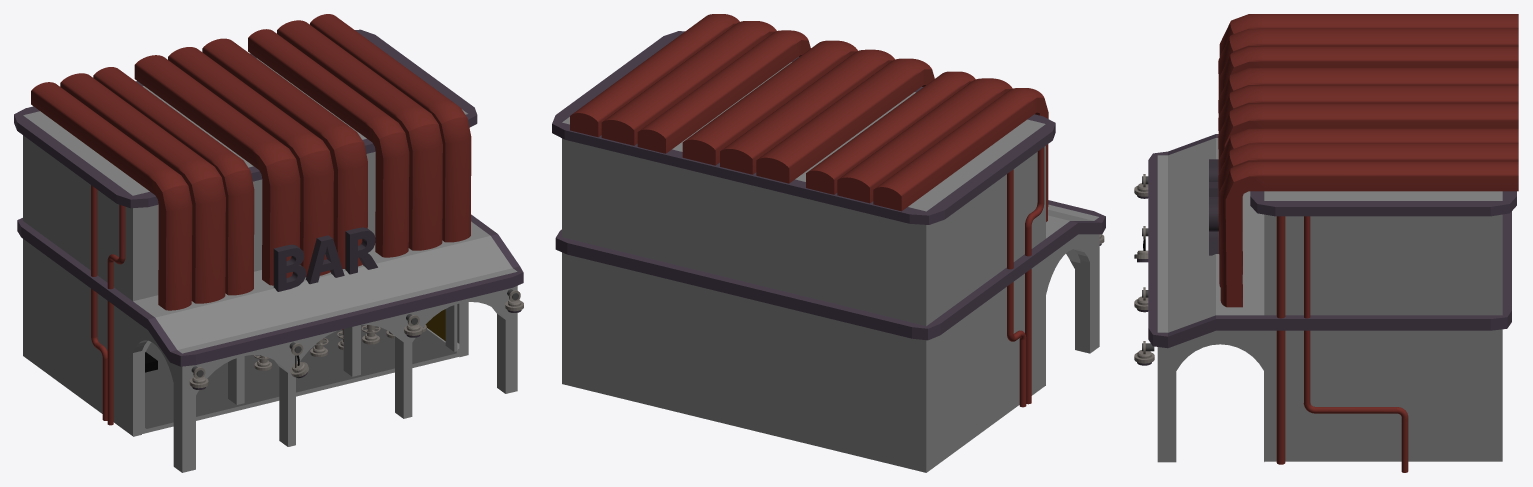
The model's file is 48_Bar_Building (2).fbx.
3 views of the same model, side by side, from view 1: azimuth 30°, elevation 25°; view 2: azimuth 150°, elevation 25°; view 3: azimuth 270°, elevation 25° (orthographic). The views are drawn at different scales.
Parts seen in each view (by area): view 1: BAR_v2:_BAR_INterior:pCube100, BAR_v2:_BAR_INterior:pPrism17, BAR_v2:_BAR_INterior:pPrism13, BAR_v2:_BAR_INterior:pPrism25, BAR_v2:_BAR_INterior:pPrism24, BAR_v2:_BAR_INterior:pPrism14, BAR_v2:_BAR_INterior:pPrism18, BAR_v2:_BAR_INterior:pPrism19, BAR_v2:_BAR_INterior:pPrism23, BAR_v2:_BAR_INterior:pPrism22, typeMesh1, BAR_v2:BAR_interior_archways (+2 smaller); view 2: BAR_v2:_BAR_INterior:pCube100, BAR_v2:_BAR_INterior:pPrism17, BAR_v2:_BAR_INterior:pPrism13, BAR_v2:_BAR_INterior:pPrism25, BAR_v2:_BAR_INterior:pPrism18, BAR_v2:_BAR_INterior:pPrism14, BAR_v2:_BAR_INterior:pPrism24, BAR_v2:_BAR_INterior:pPrism19, BAR_v2:_BAR_INterior:pPrism22, BAR_v2:_BAR_INterior:pPrism23, pCylinder409, pCylinder408; view 3: BAR_v2:_BAR_INterior:pCube100, BAR_v2:_BAR_INterior:pPrism23, BAR_v2:_BAR_INterior:pPrism18, BAR_v2:_BAR_INterior:pPrism22, BAR_v2:_BAR_INterior:pPrism24, BAR_v2:_BAR_INterior:pPrism14, BAR_v2:_BAR_INterior:pPrism19, BAR_v2:_BAR_INterior:pPrism17, BAR_v2:_BAR_INterior:pPrism25, BAR_v2:_BAR_INterior:pPrism13, pCylinder407, pCylinder304 (+1 smaller).
Part boxes in pixels (x1,y1,x2,y2): BAR_v2:_BAR_INterior:pCube100: (14, 29, 523, 472); BAR_v2:_BAR_INterior:pPrism17: (134, 55, 300, 285); BAR_v2:_BAR_INterior:pPrism13: (31, 82, 192, 310); BAR_v2:_BAR_INterior:pPrism25: (248, 29, 409, 257); BAR_v2:_BAR_INterior:pPrism24: (277, 20, 442, 250); BAR_v2:_BAR_INterior:pPrism14: (60, 73, 225, 303); BAR_v2:_BAR_INterior:pPrism18: (202, 38, 367, 268); BAR_v2:_BAR_INterior:pPrism19: (168, 47, 333, 276); BAR_v2:_BAR_INterior:pPrism23: (310, 14, 471, 242); BAR_v2:_BAR_INterior:pPrism22: (93, 67, 254, 295); typeMesh1: (273, 227, 377, 291); BAR_v2:BAR_interior_archways: (142, 304, 457, 427); BAR_v2:_BAR_INterior:pCube100: (552, 31, 1105, 472); BAR_v2:_BAR_INterior:pPrism17: (756, 58, 934, 183); BAR_v2:_BAR_INterior:pPrism13: (873, 88, 1048, 221); BAR_v2:_BAR_INterior:pPrism25: (637, 30, 810, 153); BAR_v2:_BAR_INterior:pPrism18: (682, 40, 857, 165); BAR_v2:_BAR_INterior:pPrism14: (837, 78, 1012, 203); BAR_v2:_BAR_INterior:pPrism24: (601, 21, 776, 145); BAR_v2:_BAR_INterior:pPrism19: (720, 49, 894, 174); BAR_v2:_BAR_INterior:pPrism22: (806, 71, 975, 194); BAR_v2:_BAR_INterior:pPrism23: (570, 14, 739, 137); pCylinder409: (1007, 169, 1026, 407); pCylinder408: (1025, 147, 1044, 404); BAR_v2:_BAR_INterior:pCube100: (1148, 134, 1516, 462); BAR_v2:_BAR_INterior:pPrism23: (1219, 161, 1518, 307); BAR_v2:_BAR_INterior:pPrism18: (1218, 104, 1518, 173); BAR_v2:_BAR_INterior:pPrism22: (1219, 47, 1518, 96); BAR_v2:_BAR_INterior:pPrism24: (1218, 143, 1518, 287); BAR_v2:_BAR_INterior:pPrism14: (1218, 28, 1518, 98); BAR_v2:_BAR_INterior:pPrism19: (1218, 85, 1518, 218); BAR_v2:_BAR_INterior:pPrism17: (1218, 68, 1518, 200); BAR_v2:_BAR_INterior:pPrism25: (1219, 128, 1518, 274); BAR_v2:_BAR_INterior:pPrism13: (1219, 14, 1518, 56); pCylinder407: (1303, 216, 1408, 472); pCylinder304: (1276, 216, 1285, 464).
Bounding box in the file's own units: 8.49 × 6.1 × 7.28.
